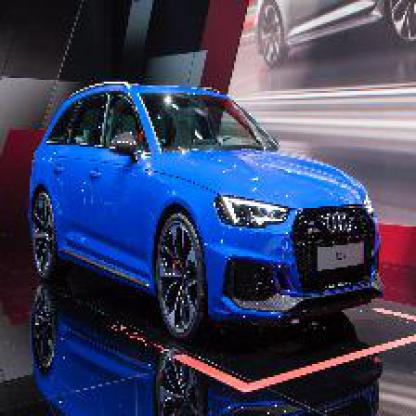not_emergency: (26, 66, 396, 350)
